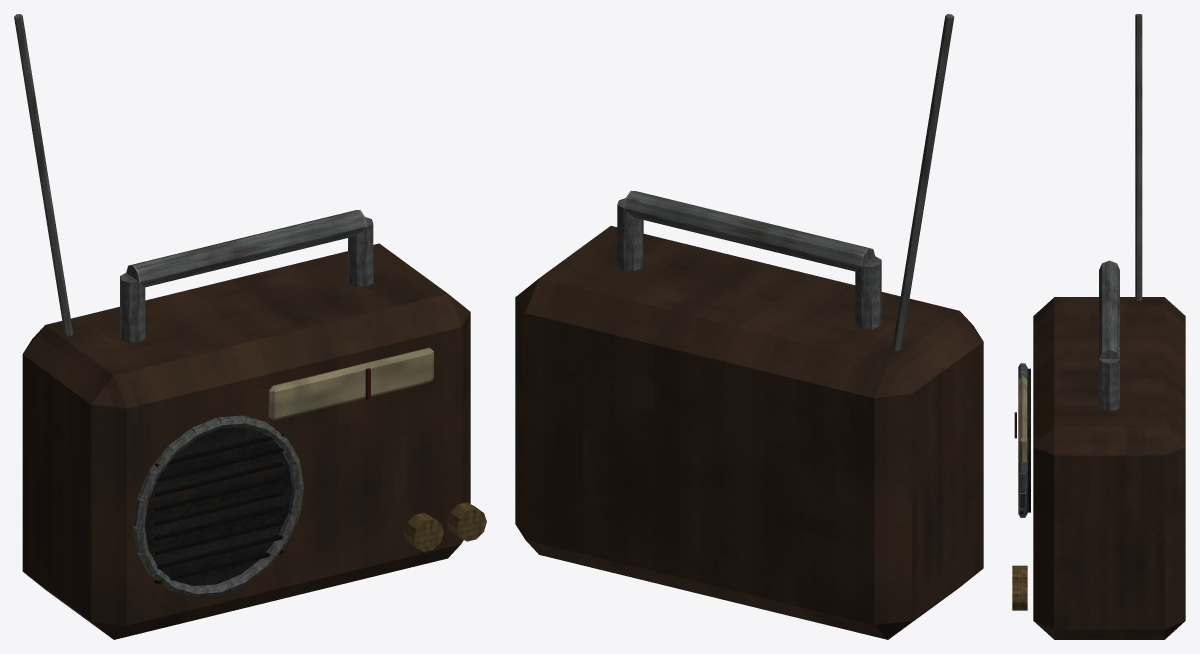
File: level_event_radio_worn.glb
3 views of the same model, side by side, from view 1: azimuth 30°, elevation 25°; view 2: azimuth 150°, elevation 25°; view 3: azimuth 270°, elevation 25° (orthographic). The views are drawn at different scales.
Visible parts, largest first — view 1: level_event_radio_worn; view 2: level_event_radio_worn; view 3: level_event_radio_worn.
Part boxes in pixels (<box>): level_event_radio_worn: <box>14,14,486,639</box>; level_event_radio_worn: <box>515,14,983,639</box>; level_event_radio_worn: <box>1012,14,1185,639</box>.
Size of the model in its own units: 0.3186 by 0.4504 by 0.148.
Materials: 7 (7 with a texture image).
